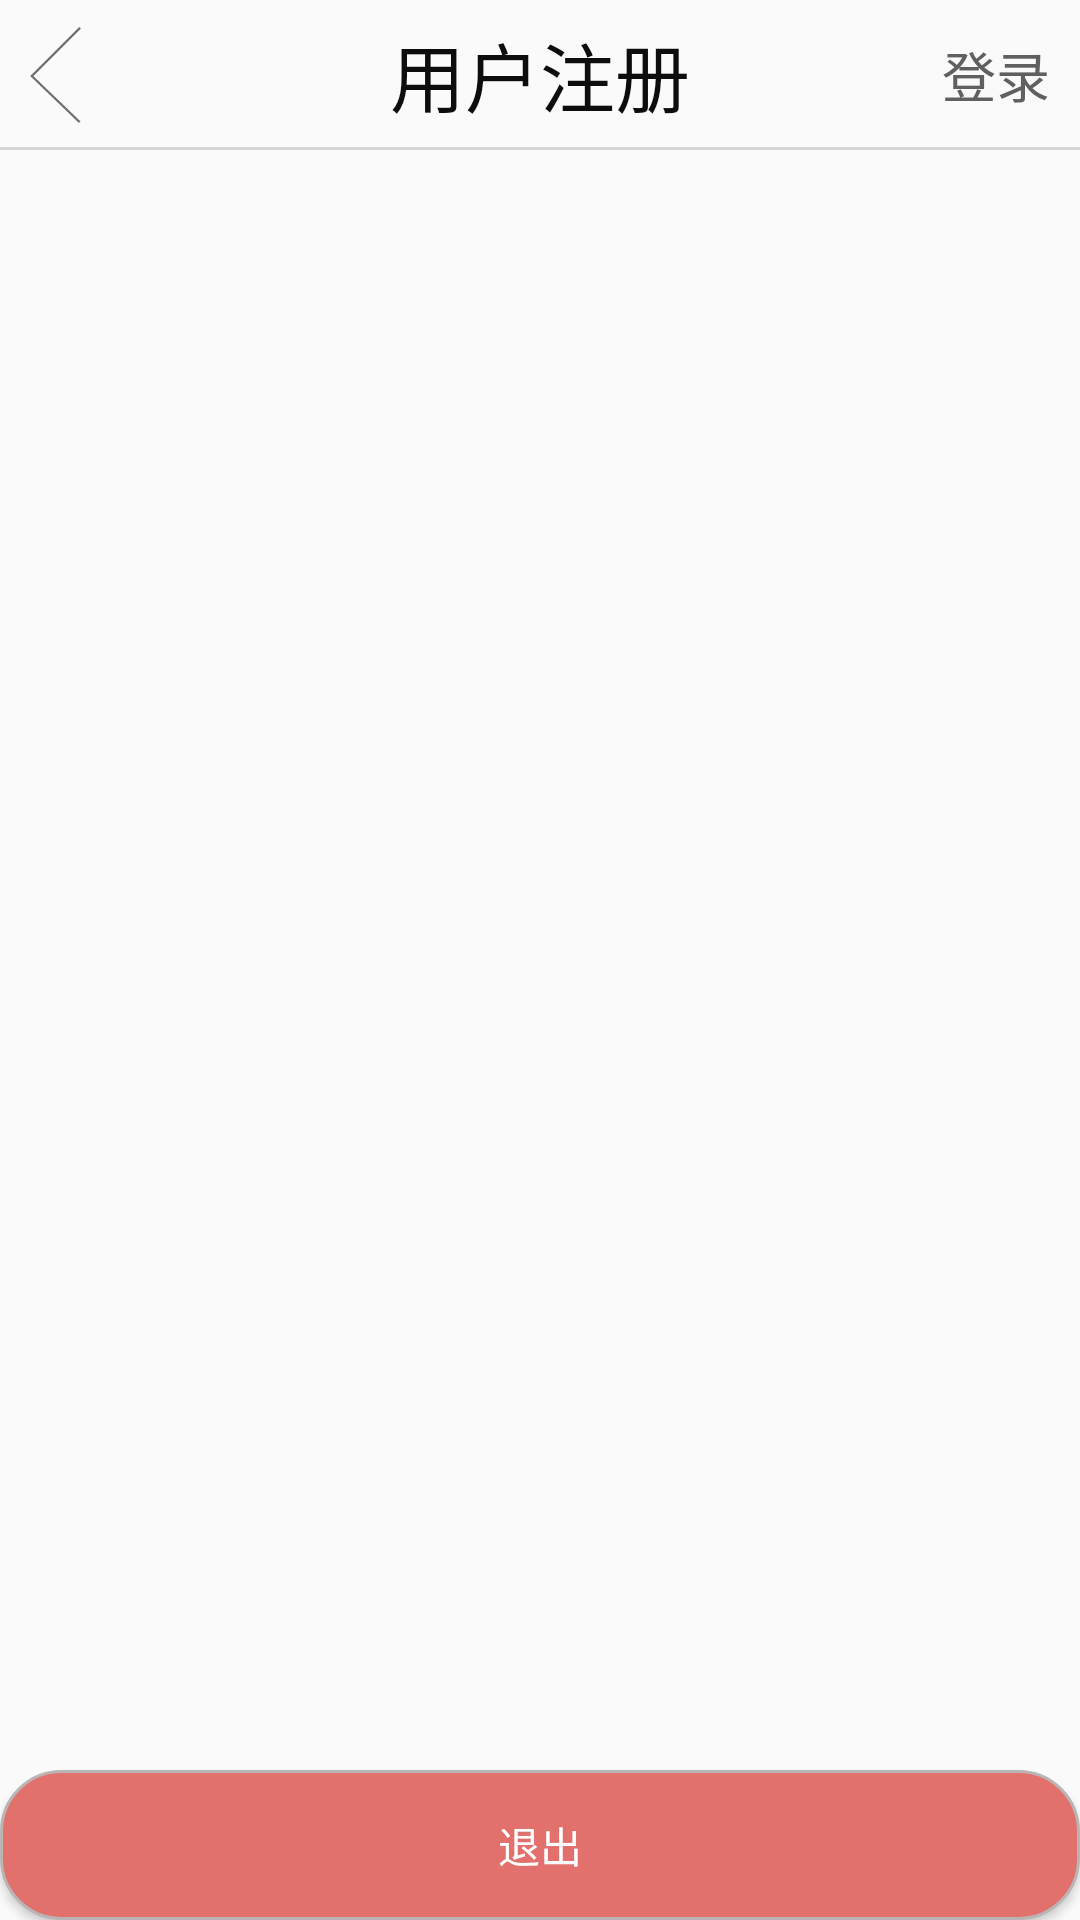

Screen size 1080px x 1920px. Icon name, then its box in pixels as (x1, y1, x2, y2):
back: (30, 27, 81, 123)
